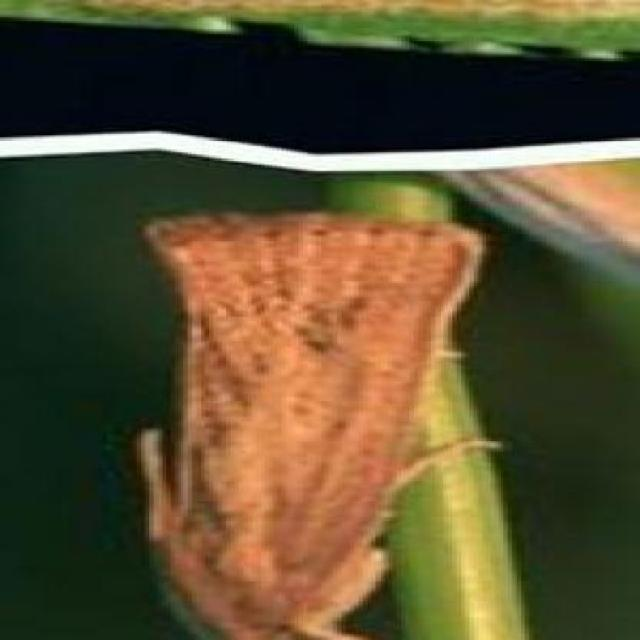stem-borer: (128, 206, 507, 640)
